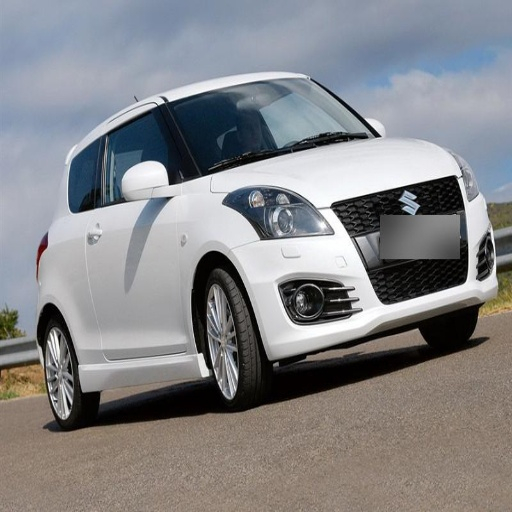back_right_door: (68, 130, 121, 328)
front_bumper: (241, 176, 493, 362)
front_glass: (172, 79, 379, 168)
front_left_door: (101, 302, 169, 354)
front_right_door: (99, 116, 182, 344)
front_right_light: (240, 187, 331, 238)
